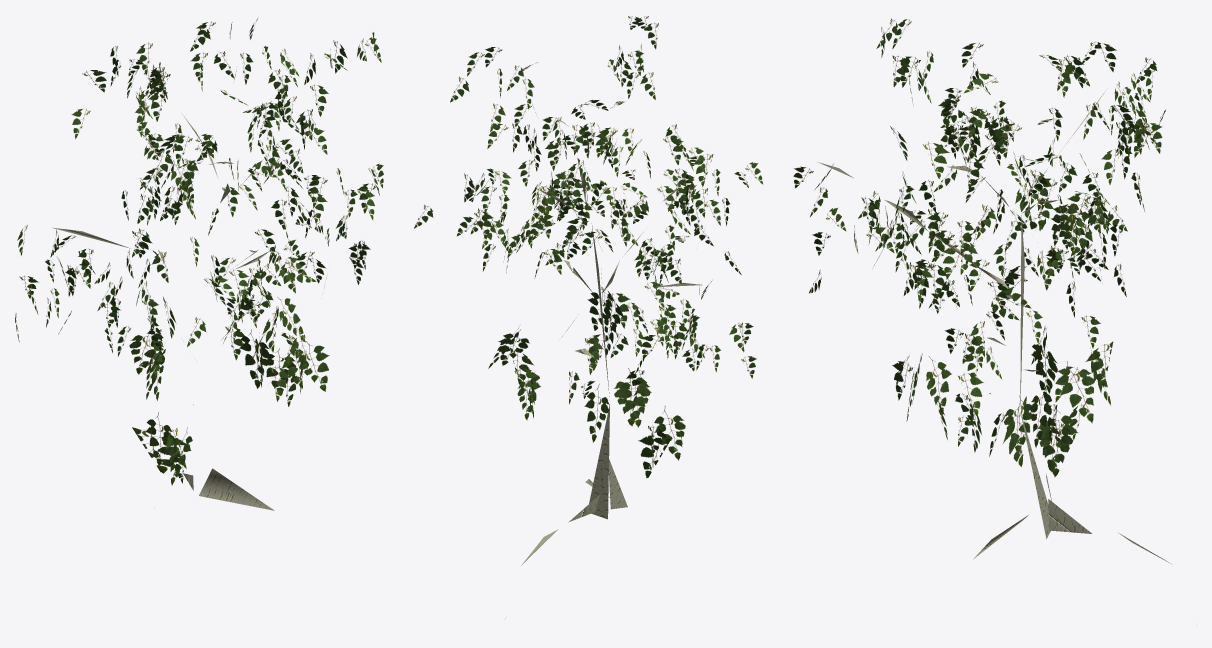
File: birch_0_lod2.glb
The picture shows the model from 3 angles, left to right: view 1: azimuth 30°, elevation 25°; view 2: azimuth 150°, elevation 25°; view 3: azimuth 270°, elevation 25°; orthographic projection. The views are drawn at different scales.
Visible parts, largest first — view 1: Bark; view 2: Bark; view 3: Bark.
Part boxes in pixels (box(x1,y1,x2,y2)): Bark: box(15, 17, 383, 510); Bark: box(414, 16, 762, 565); Bark: box(793, 18, 1170, 563).
Bounding box in the file's own units: 6.71 × 10.96 × 6.32.
2 materials, 2 textured.
